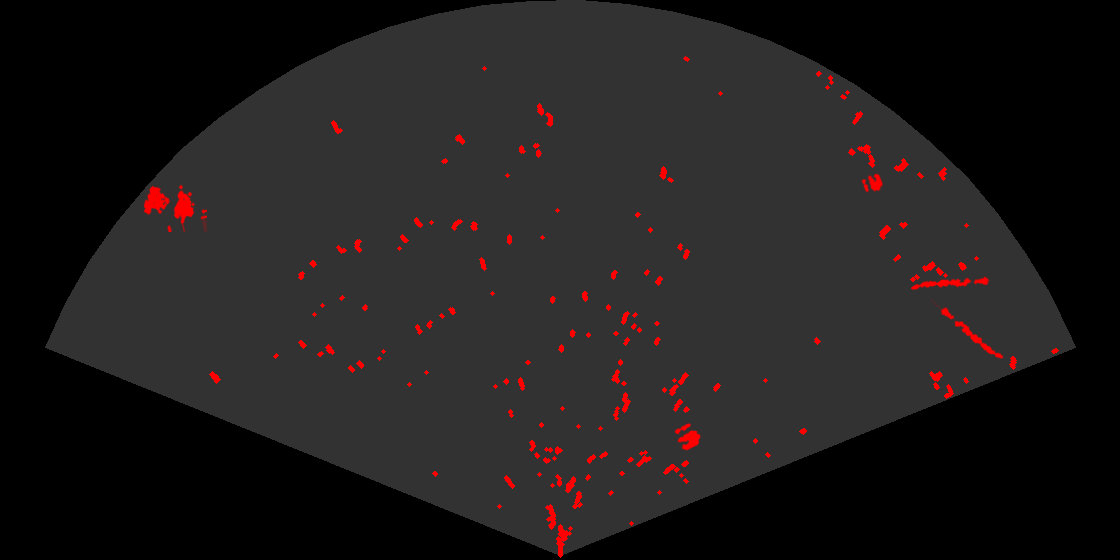ball: (673, 422, 702, 452), (860, 172, 885, 194)
cage: (142, 183, 207, 232)
chain: (929, 300, 1005, 360), (909, 275, 990, 291)
